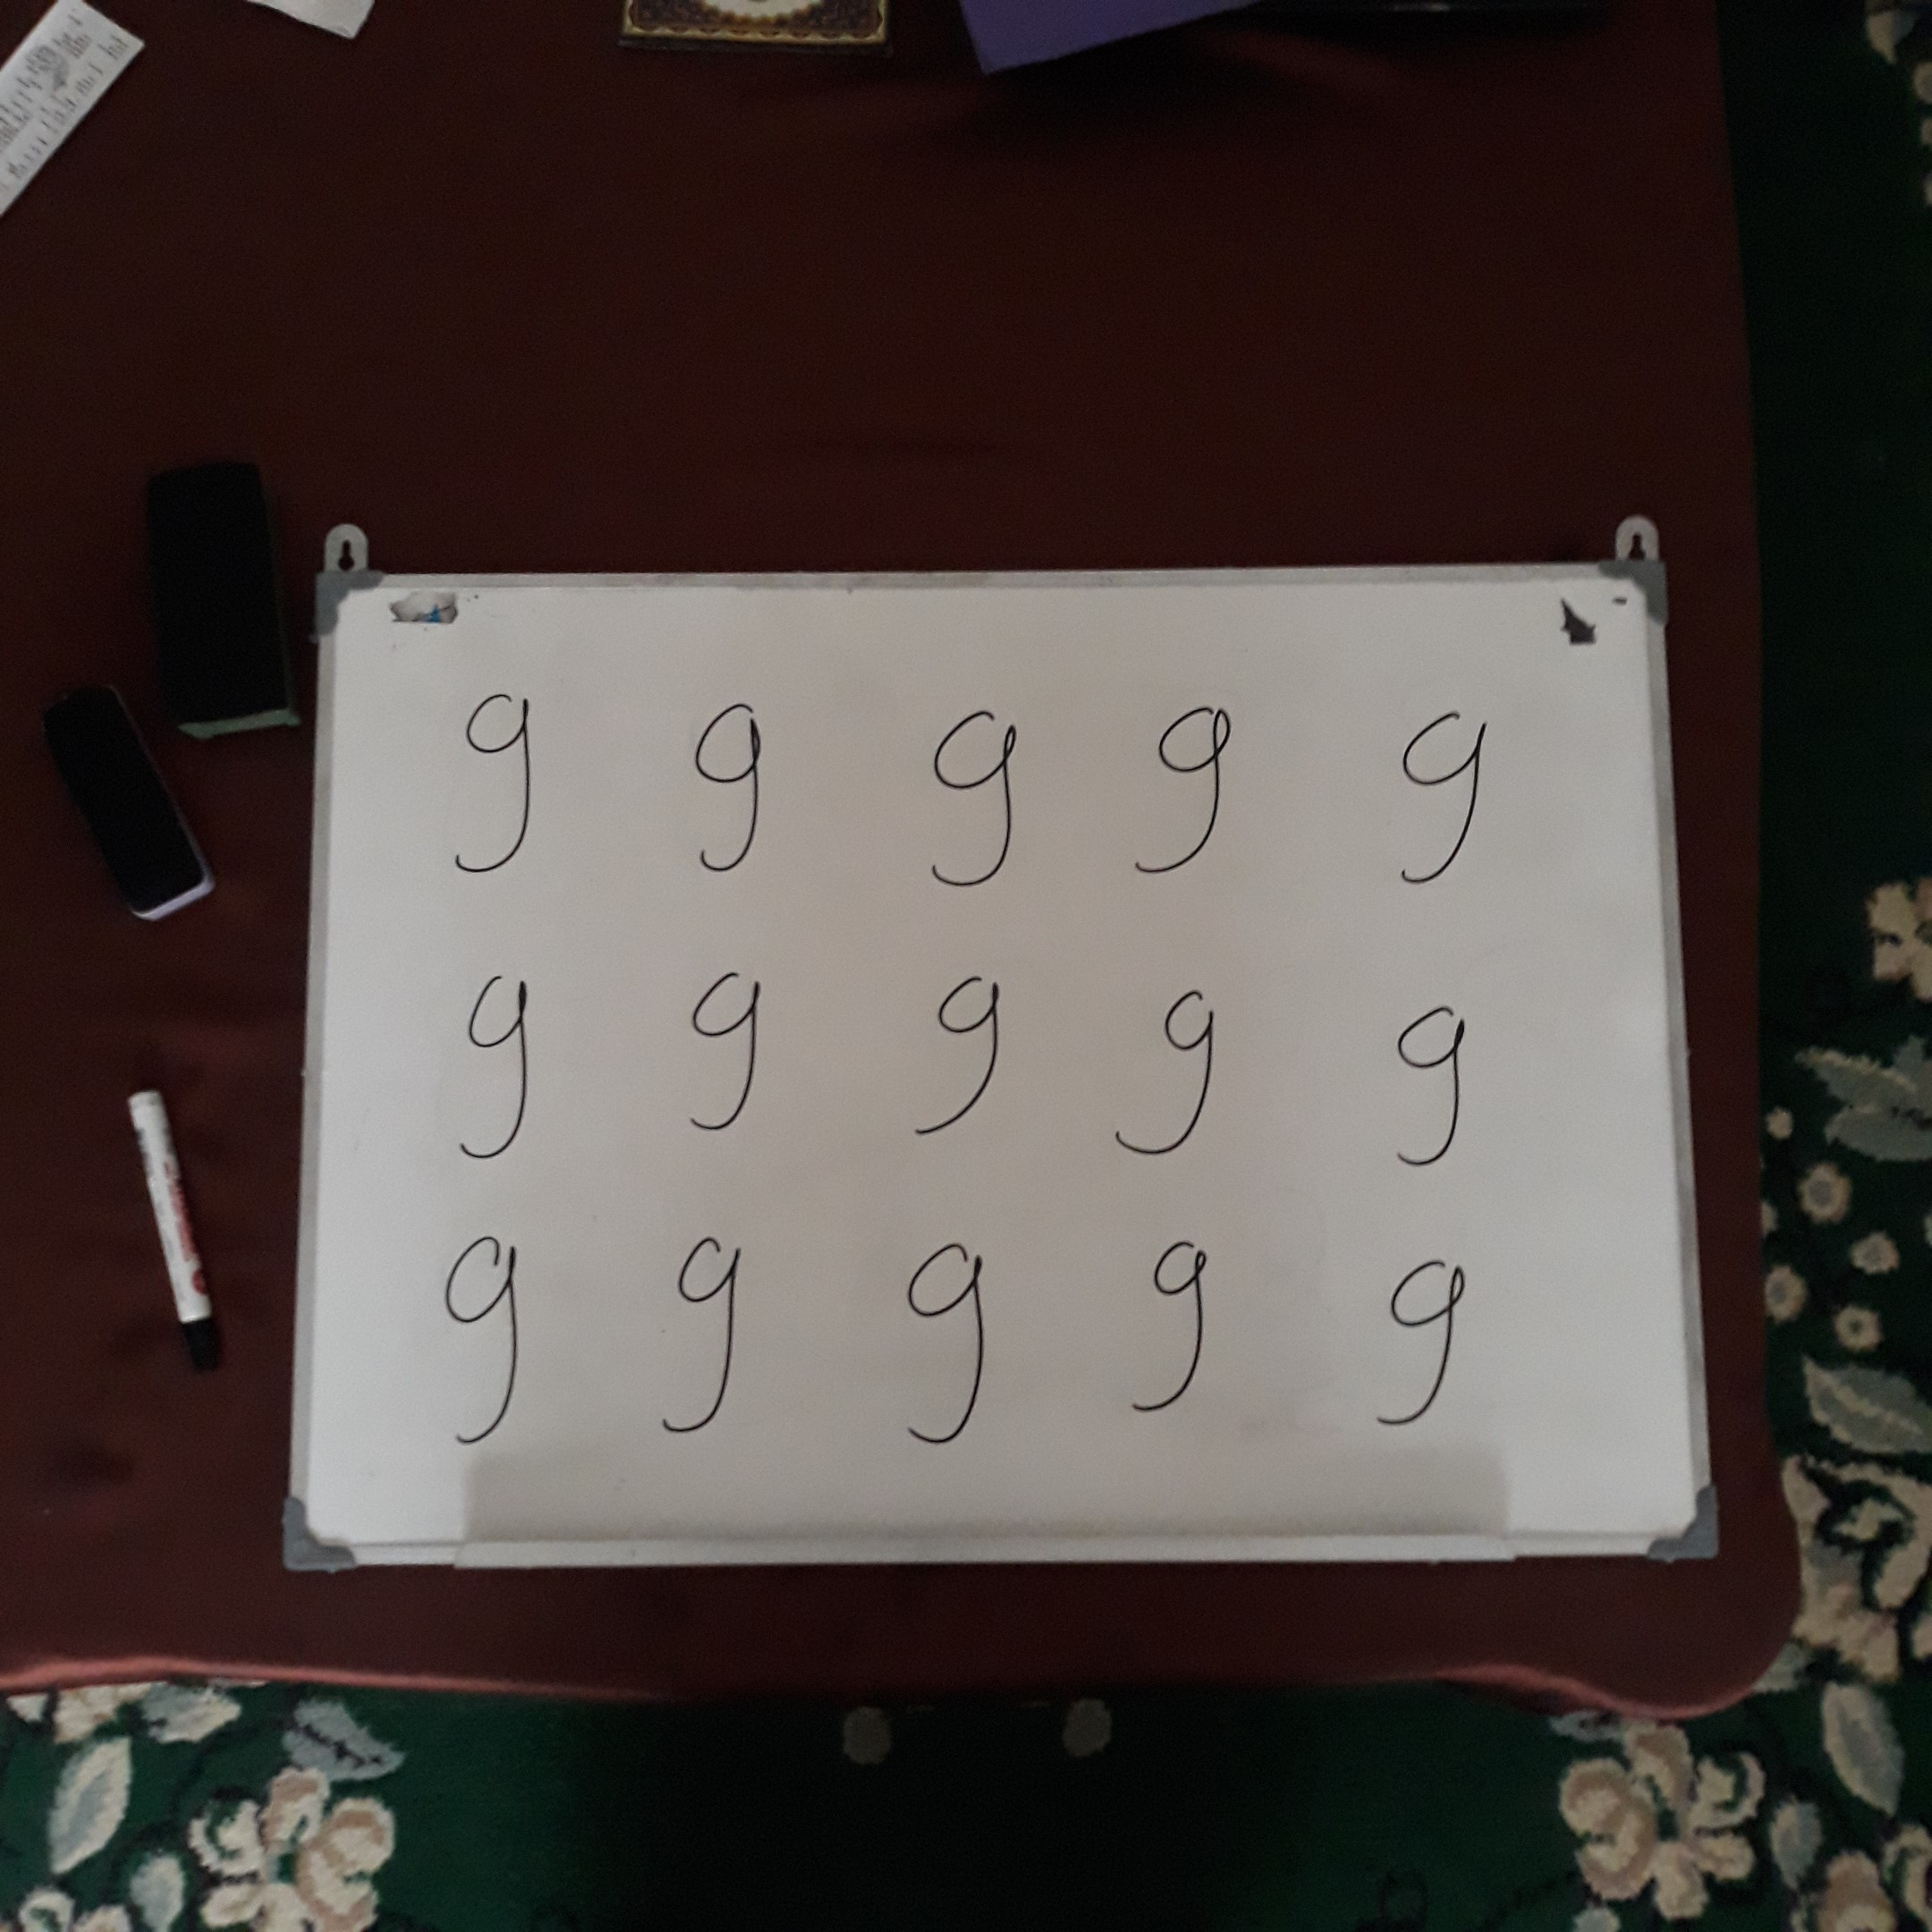num9: (863, 1227, 1040, 1470), (628, 1219, 789, 1458), (1366, 689, 1530, 921), (411, 1222, 557, 1468), (894, 701, 1059, 912), (1111, 689, 1276, 901), (1352, 1240, 1506, 1454), (1357, 976, 1510, 1188), (1107, 1224, 1247, 1453), (1090, 979, 1250, 1174), (662, 953, 796, 1169), (891, 962, 1035, 1160), (440, 962, 563, 1188), (435, 674, 561, 890), (677, 694, 798, 888)
